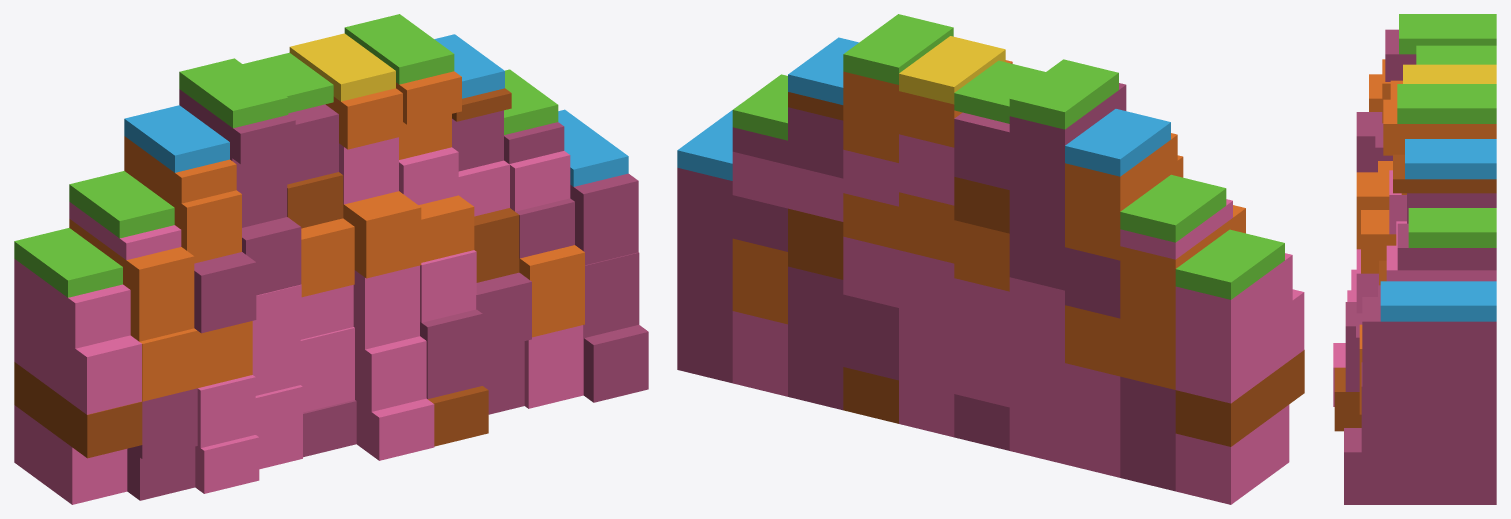
Rendered from DesertCliffWall.obj.
3 renders of one model, left to right at view 1: azimuth 30°, elevation 25°; view 2: azimuth 150°, elevation 25°; view 3: azimuth 270°, elevation 25°, orthographic. The views are drawn at different scales.
Parts seen in each view (by area): view 1: DesertCliffWall; view 2: DesertCliffWall; view 3: DesertCliffWall.
Boxes of the visible parts, x1,y1,x2,y2 form: DesertCliffWall: (14, 14, 648, 504); DesertCliffWall: (677, 14, 1304, 504); DesertCliffWall: (1333, 14, 1496, 504).
Bounding box in the file's own units: 20 × 12.3 × 5.64.
